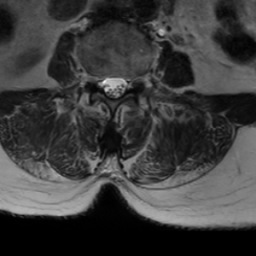CCS_normal: (110, 65, 118, 107)
LFS_normal: (128, 64, 138, 95)
LLS_normal: (118, 66, 128, 102)
RFS_normal: (91, 63, 100, 93)
RLS_normal: (100, 67, 110, 103)
